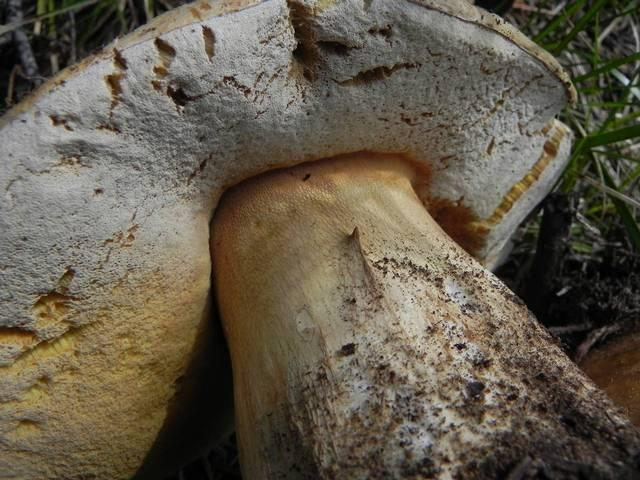Edible Mushroom: (0, 0, 579, 479)
